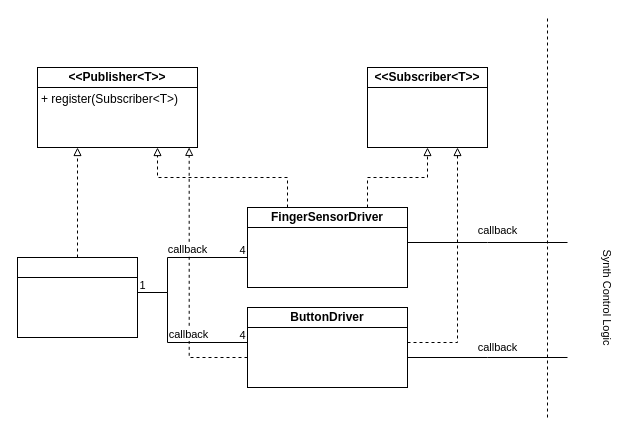
This 640x436 diagram has some shape labels left out. The shapes that lost their labels are listed below. From the top down, each one's box as (x1, y1, x2, y2) in pixels, then its label:
(366, 86, 488, 148): + update(T)
(16, 256, 138, 278): AdcDriver
